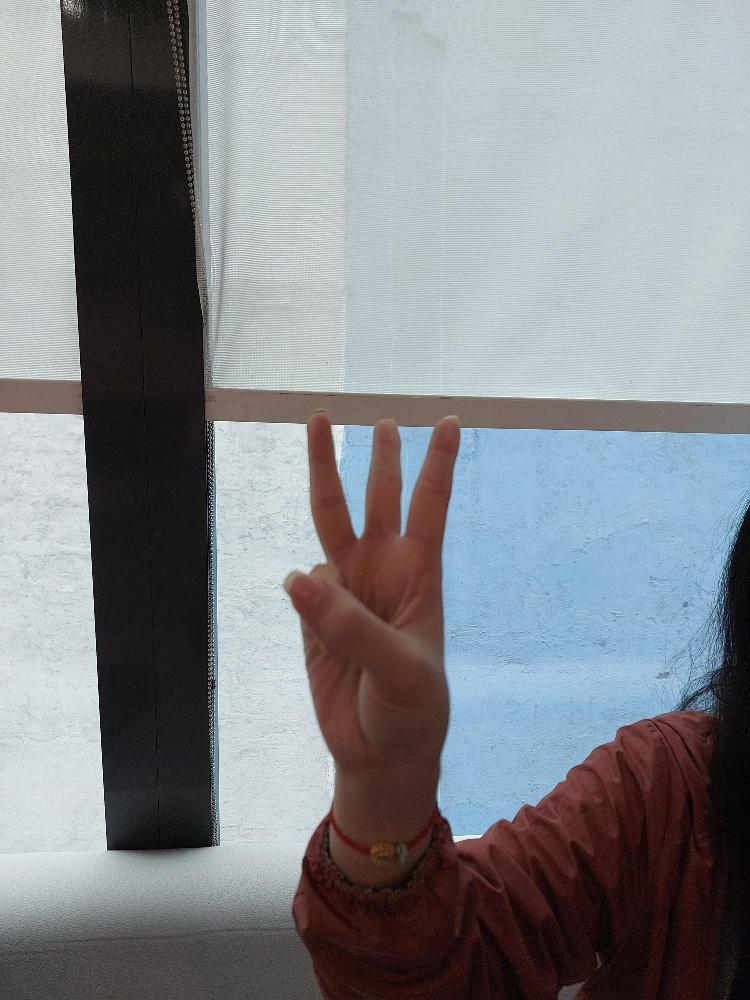w: (281, 404, 466, 771)
